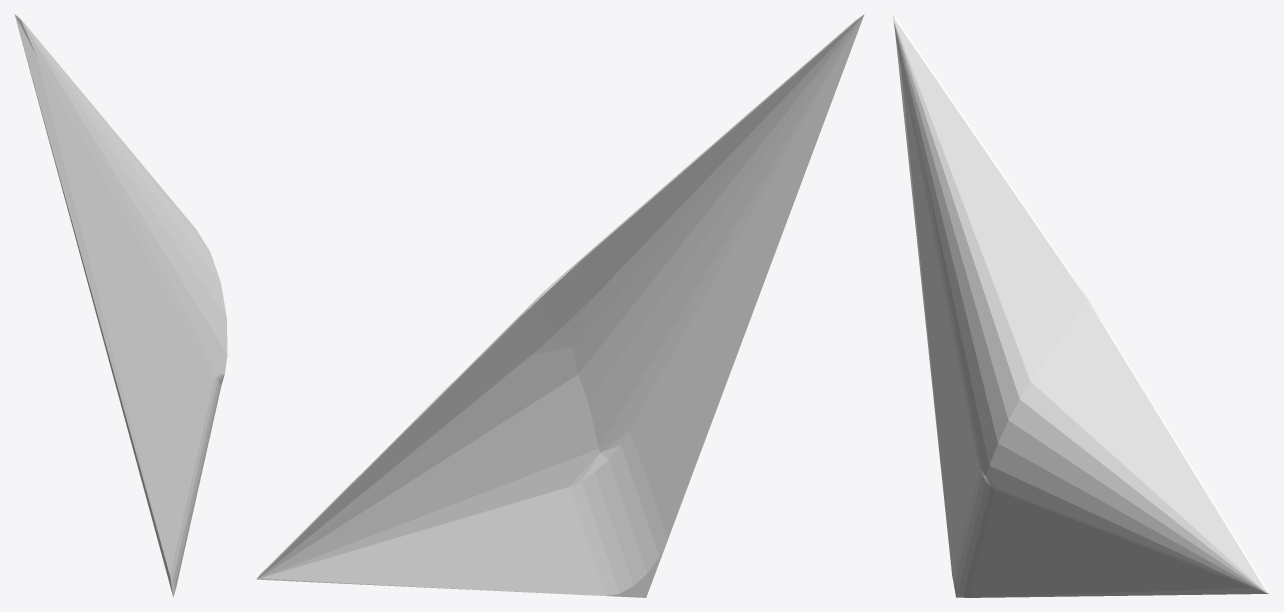
File: sail2Cloth.obj
3 renders of one model, left to right at view 1: azimuth 30°, elevation 25°; view 2: azimuth 150°, elevation 25°; view 3: azimuth 270°, elevation 25°, orthographic. The views are drawn at different scales.
Parts seen in each view (by area): view 1: Cloth2_Plane; view 2: Cloth2_Plane; view 3: Cloth2_Plane.
Part boxes in pixels (x1=…): Cloth2_Plane: x1=14, y1=14, x2=227, y2=597; Cloth2_Plane: x1=256, y1=14, x2=864, y2=597; Cloth2_Plane: x1=893, y1=14, x2=1269, y2=597.
Size of the model in its own units: 3.62 by 5.39 by 3.62.
Materials: 1 (1 with a texture image).
